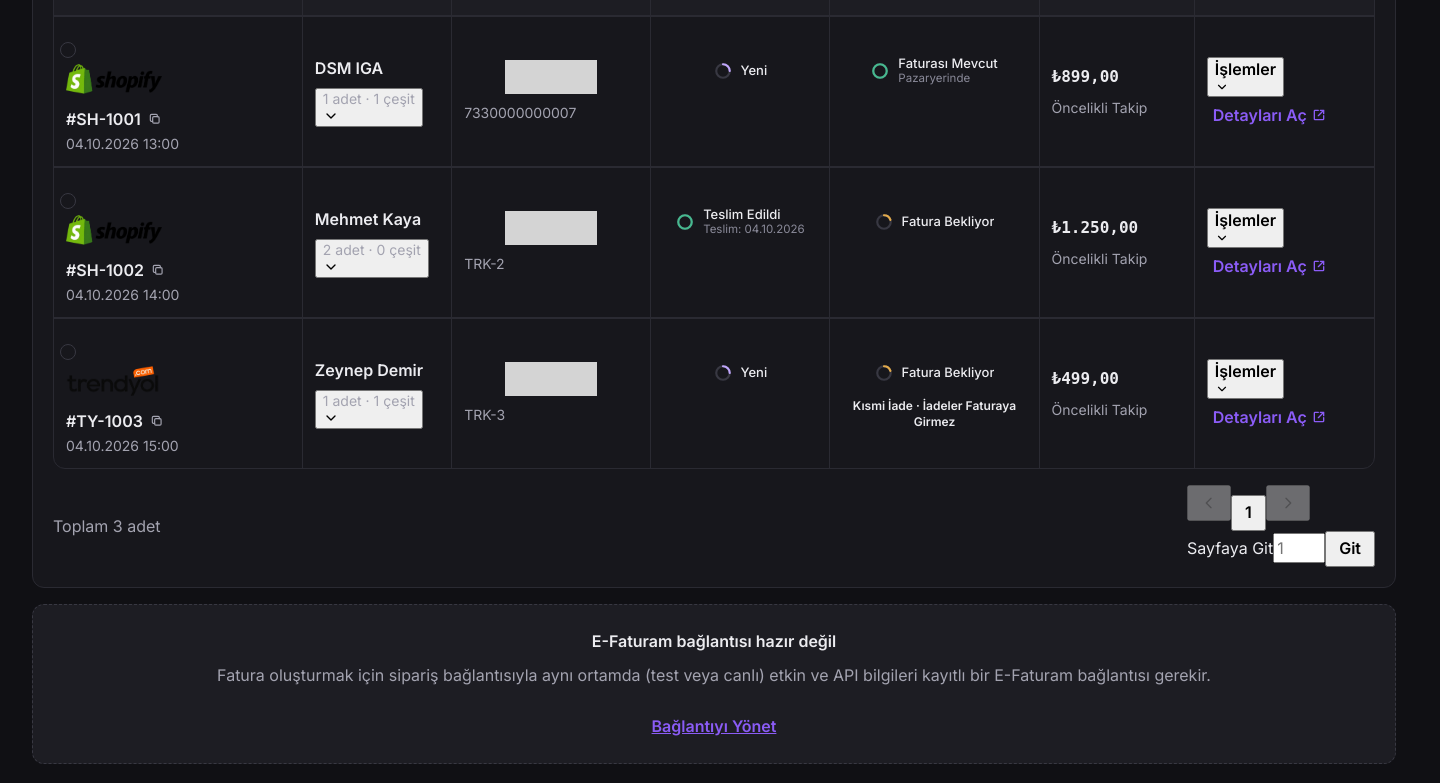
Test: InvoicesPage Shopify bulk invoice status › shows every invoice operation and locks actions that are unavailable for the Trendyol order
(page scrolled)
Click the button with class "invoice-reference-actions-trigger" in the row of "Zeynep Demir" at coordinates (1245, 379), box [1207,359,1284,398]
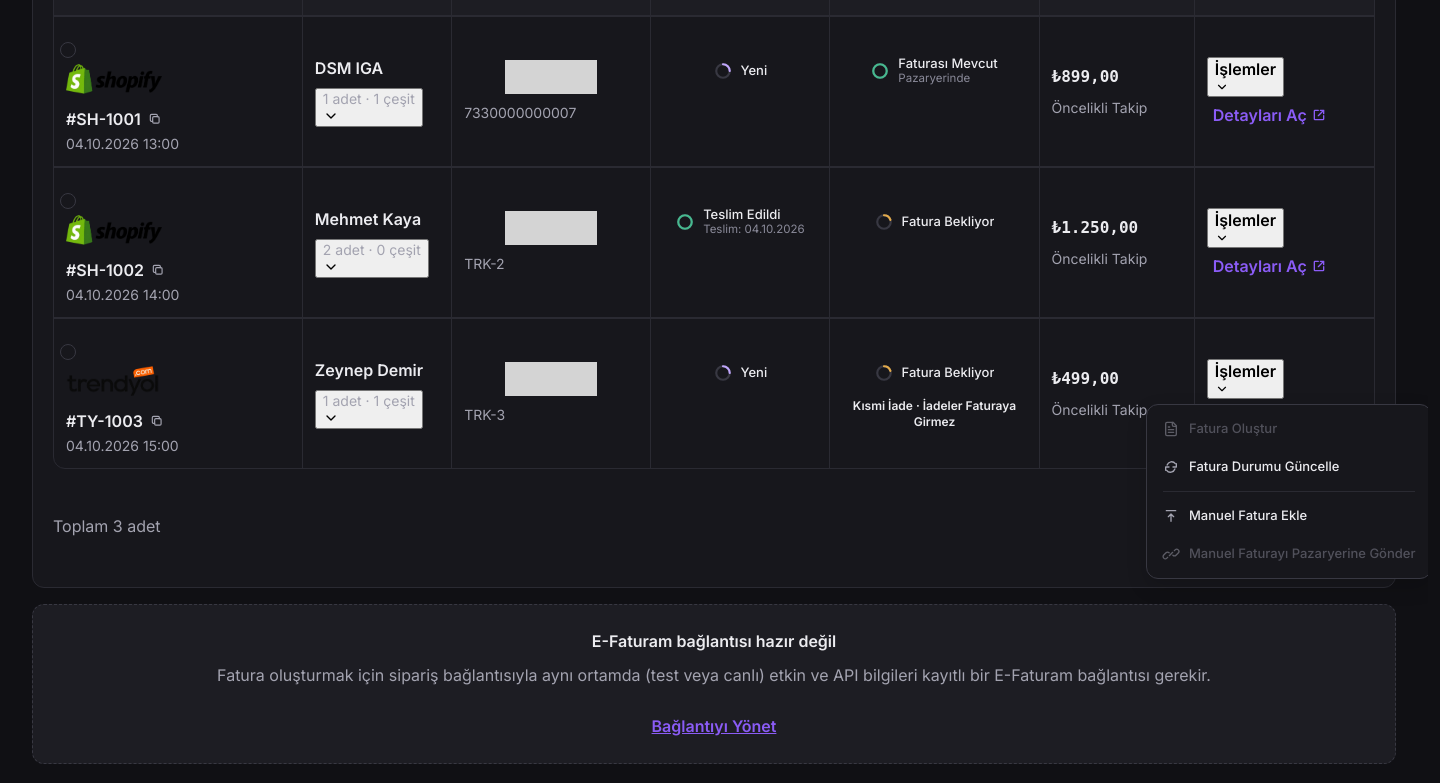
Check: the menu item "Fatura Oluştur" is disabled, box [1153,410,1426,446]
Check: the menu item "Manuel Fatura Ekle" is enabled, box [1153,498,1426,534]
Check: the menu item "Manuel Faturayı Pazaryerine Gönder" is disabled, box [1153,536,1426,572]
